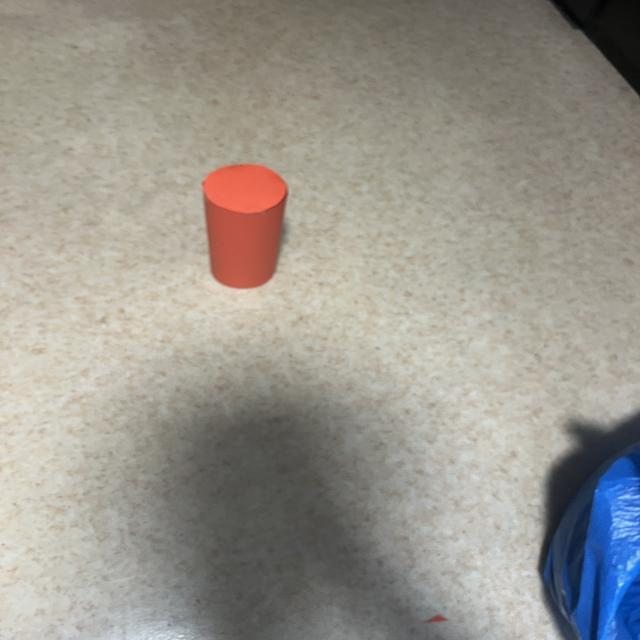przeszkoda: (203, 164, 287, 288)
